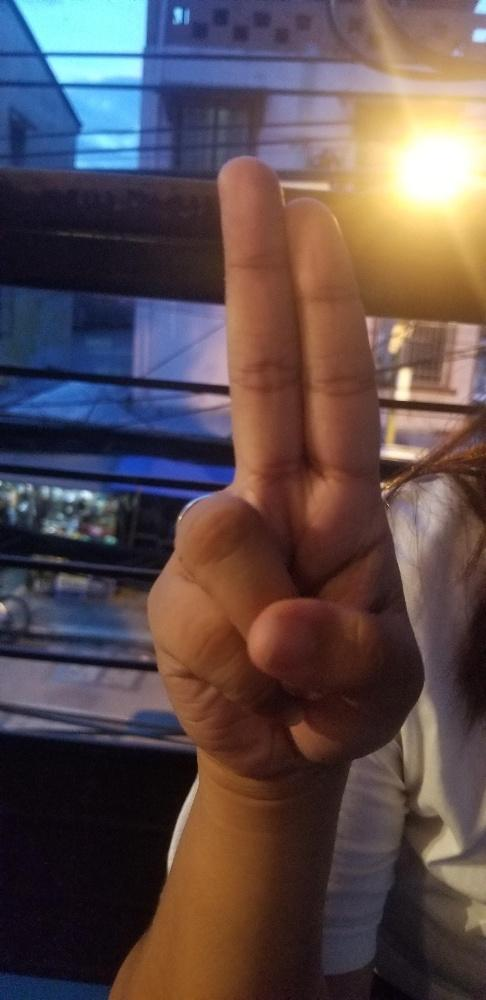u: (140, 148, 424, 774)
